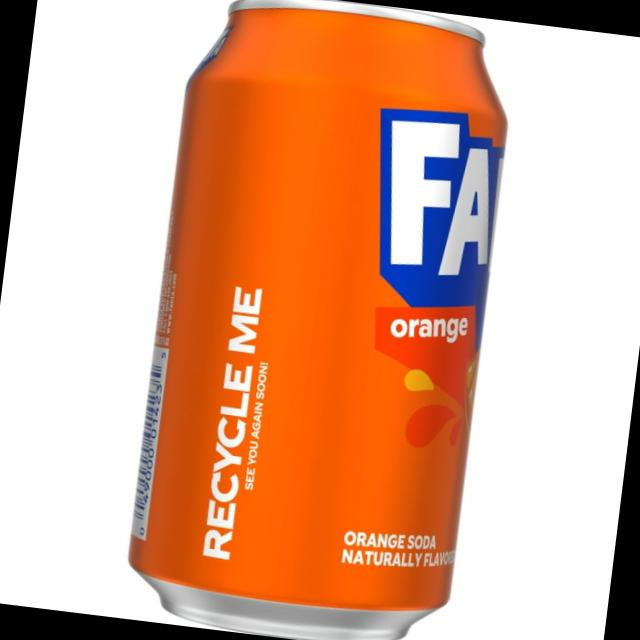fanta: (118, 0, 513, 640)
